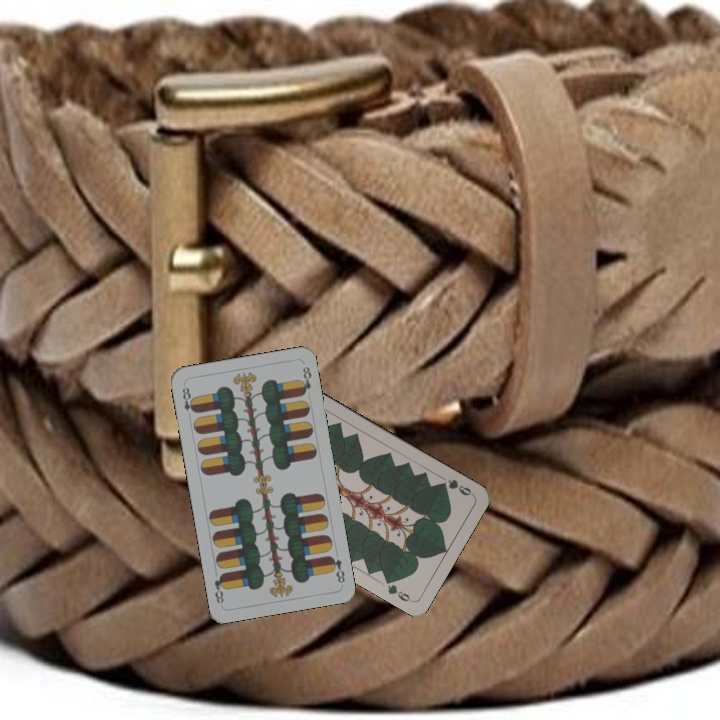E8: (325, 552, 348, 586), (178, 383, 198, 415)
G9: (436, 475, 476, 498)
